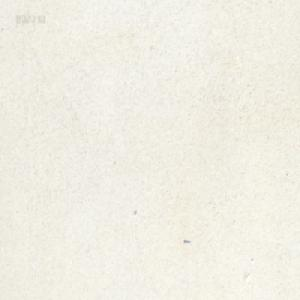Nail: (183, 238, 190, 243)
